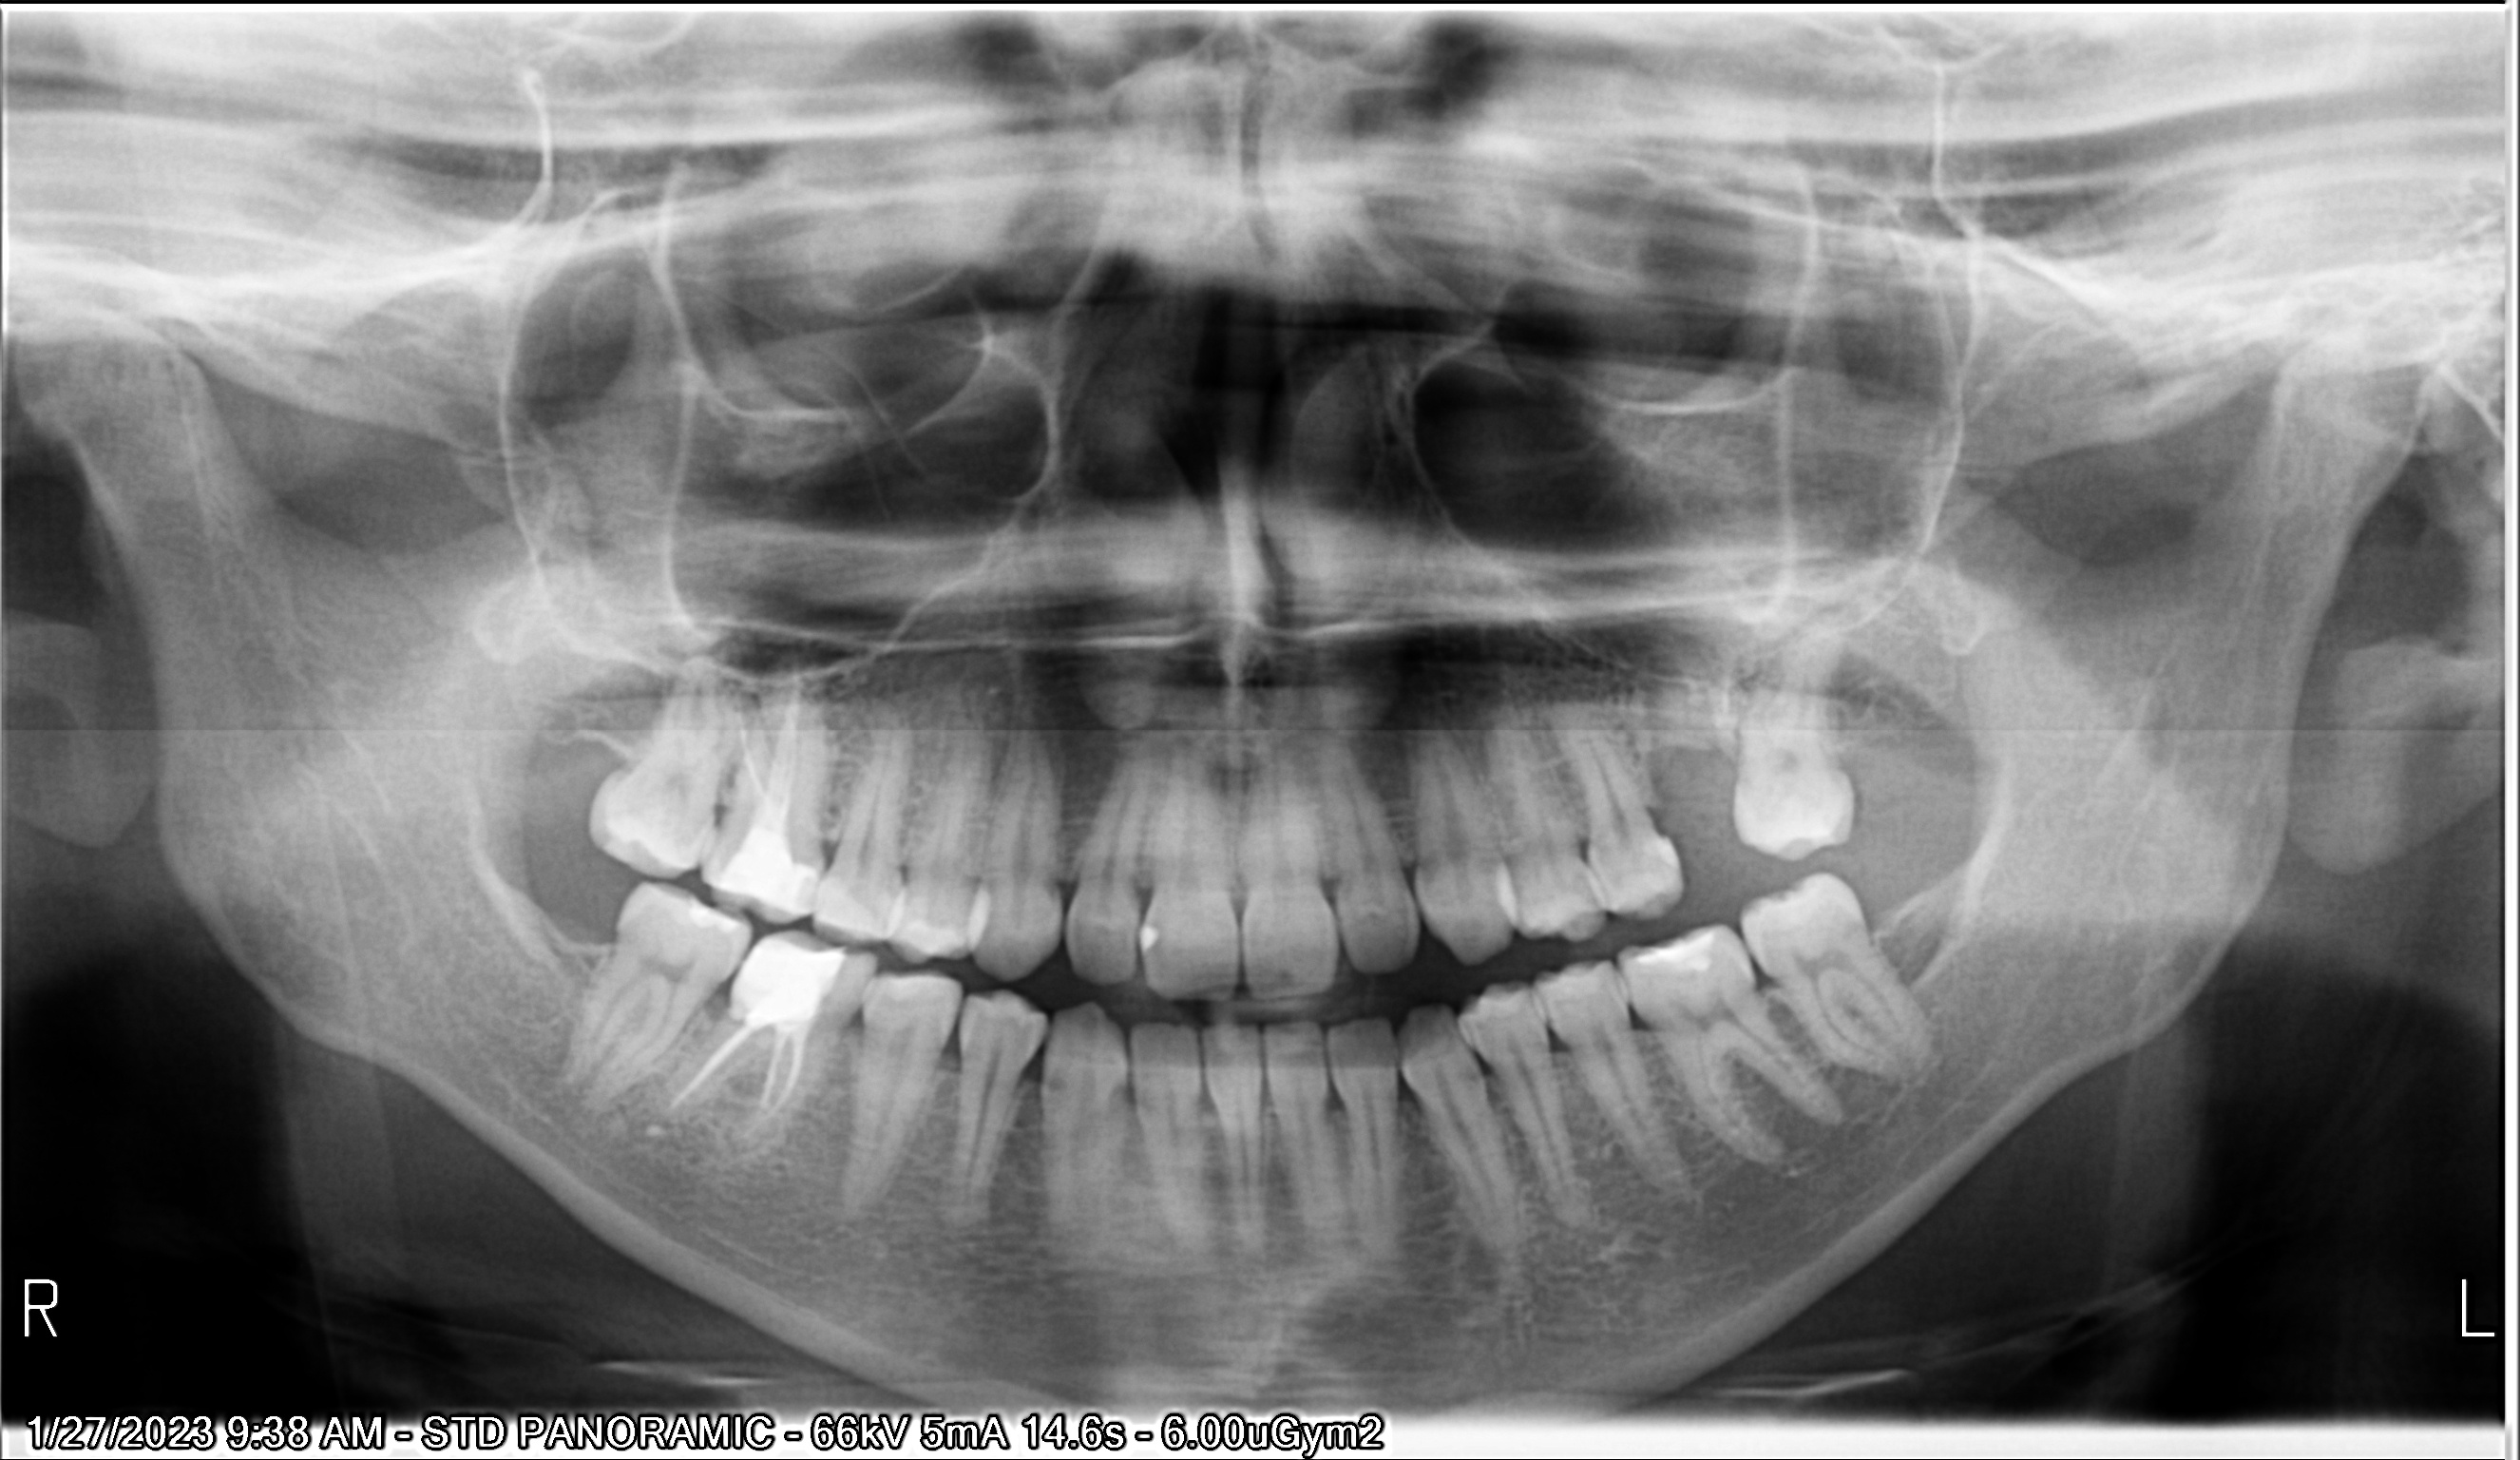END: (625, 1019, 842, 1166), (710, 652, 854, 820)
OBT: (710, 918, 865, 1036), (712, 815, 834, 923), (1629, 911, 1735, 998), (802, 862, 907, 944), (663, 878, 747, 954), (893, 899, 980, 968), (861, 965, 947, 1024), (1120, 902, 1178, 970)
